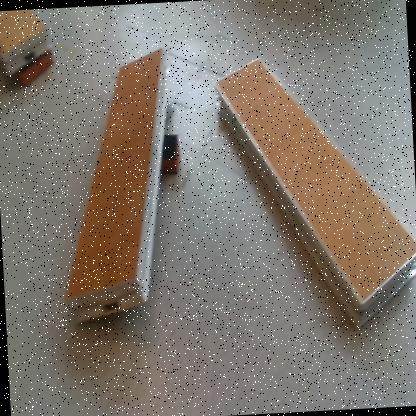Stairs: (214, 55, 416, 332), (62, 47, 173, 330), (1, 10, 53, 79)
